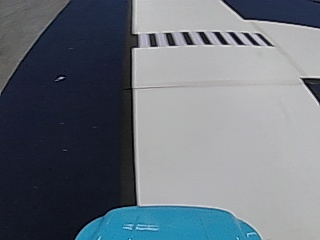CrossWalk: (132, 30, 267, 49)
